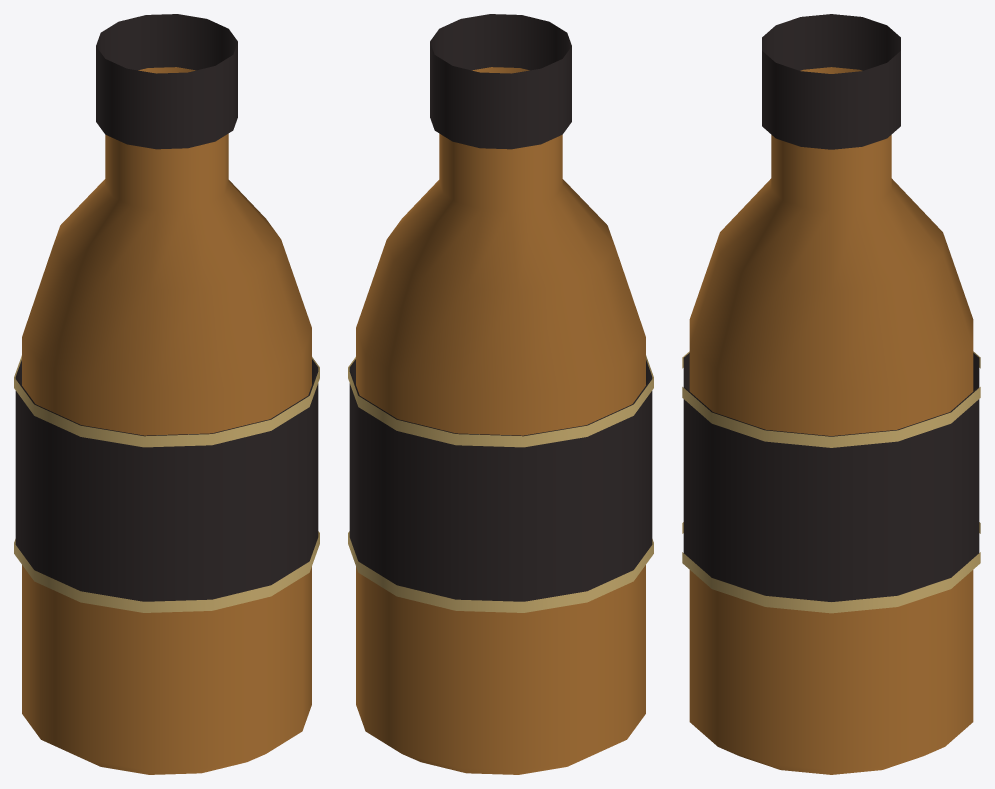
The model's file is whisky.gltf.
3 views of the same model, side by side, from view 1: azimuth 30°, elevation 25°; view 2: azimuth 150°, elevation 25°; view 3: azimuth 270°, elevation 25° (orthographic).
Bounding box in the file's own units: 0.99 × 2.43 × 0.9652.
